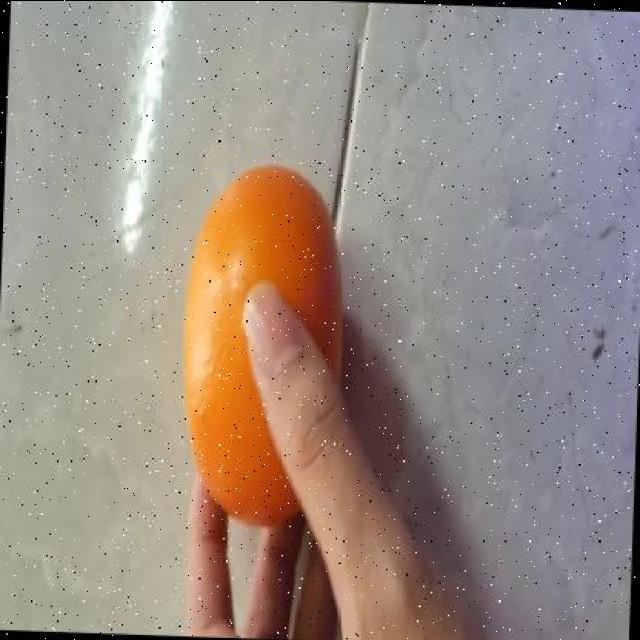Orange: (180, 165, 344, 529)
